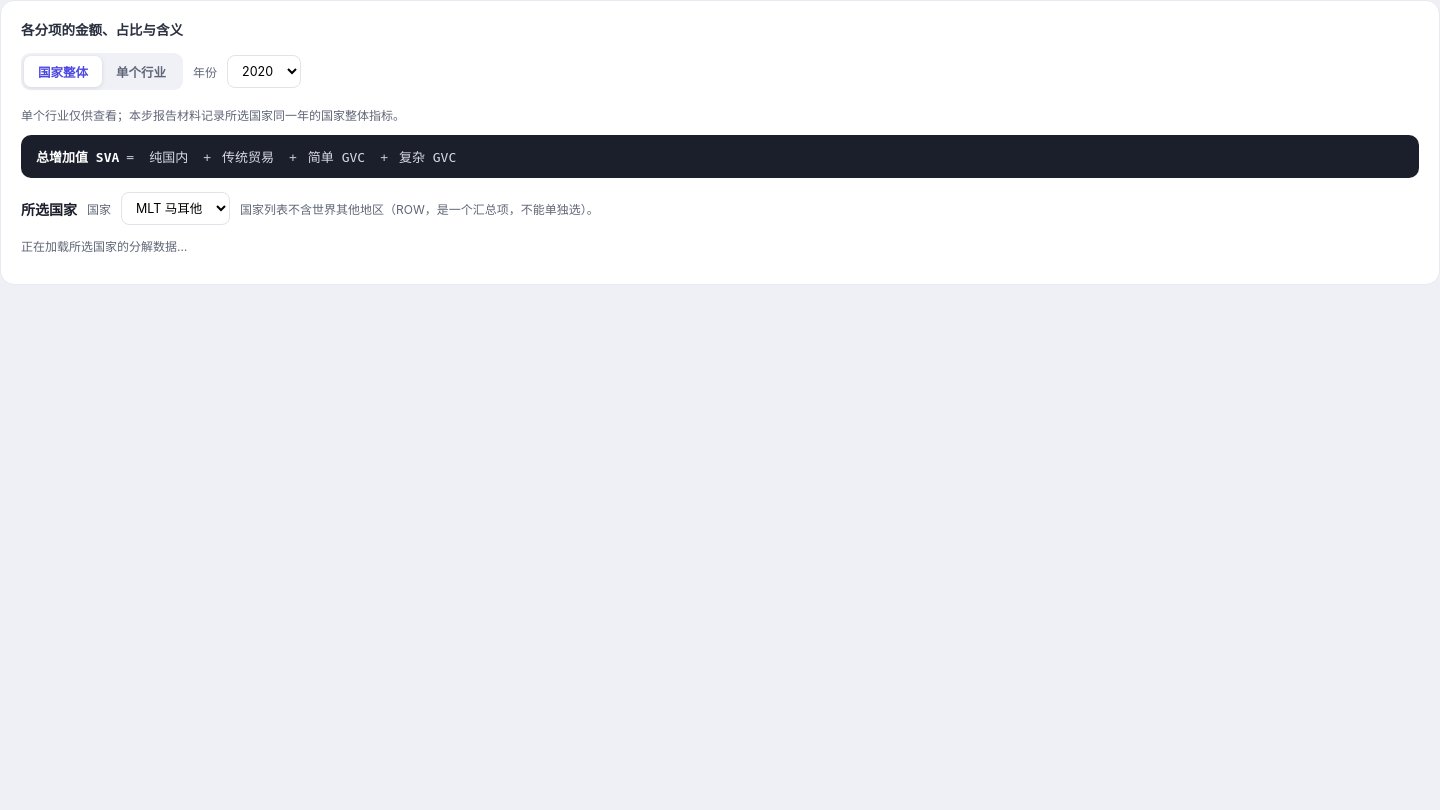
Test: small amounts read with the precision of the table rows (round 10) › a negative industry total is explained as negative, not as too small
Click the button "单个行业" at (141, 72), box [102,56,180,87]
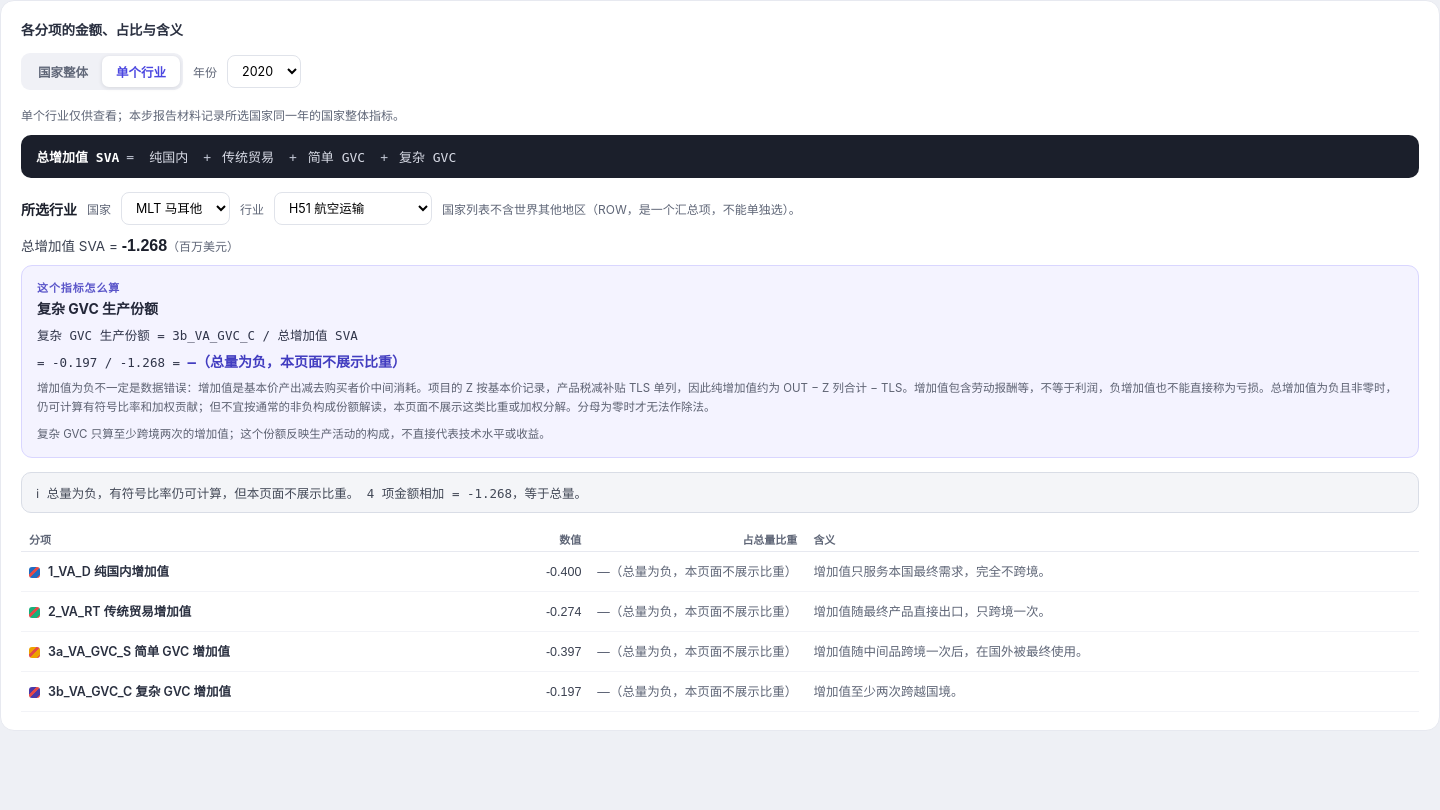
Result: the text "总量为负，有符号比率仍可计算，但本页面不展示比重" is shown at [47,486,359,501]
